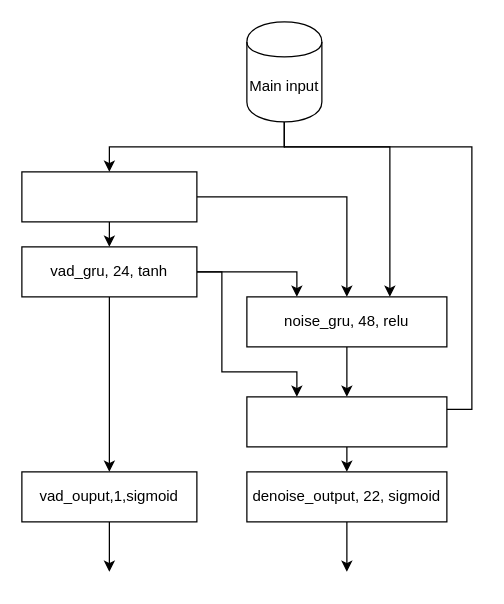
Image size: 504x604. Some labels were removed from this diagram. The centre of each missing label's shape, as x and y in pixels:
denoise_gru, 96, tanh: (346,421)
input_dense, 24, tanh: (109,196)
